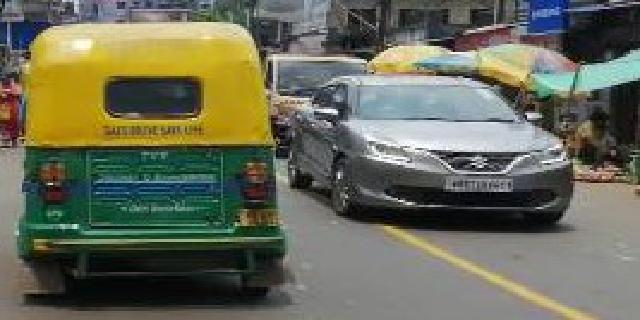Autorickshaw: (11, 18, 288, 310)
Car: (284, 67, 580, 235)
